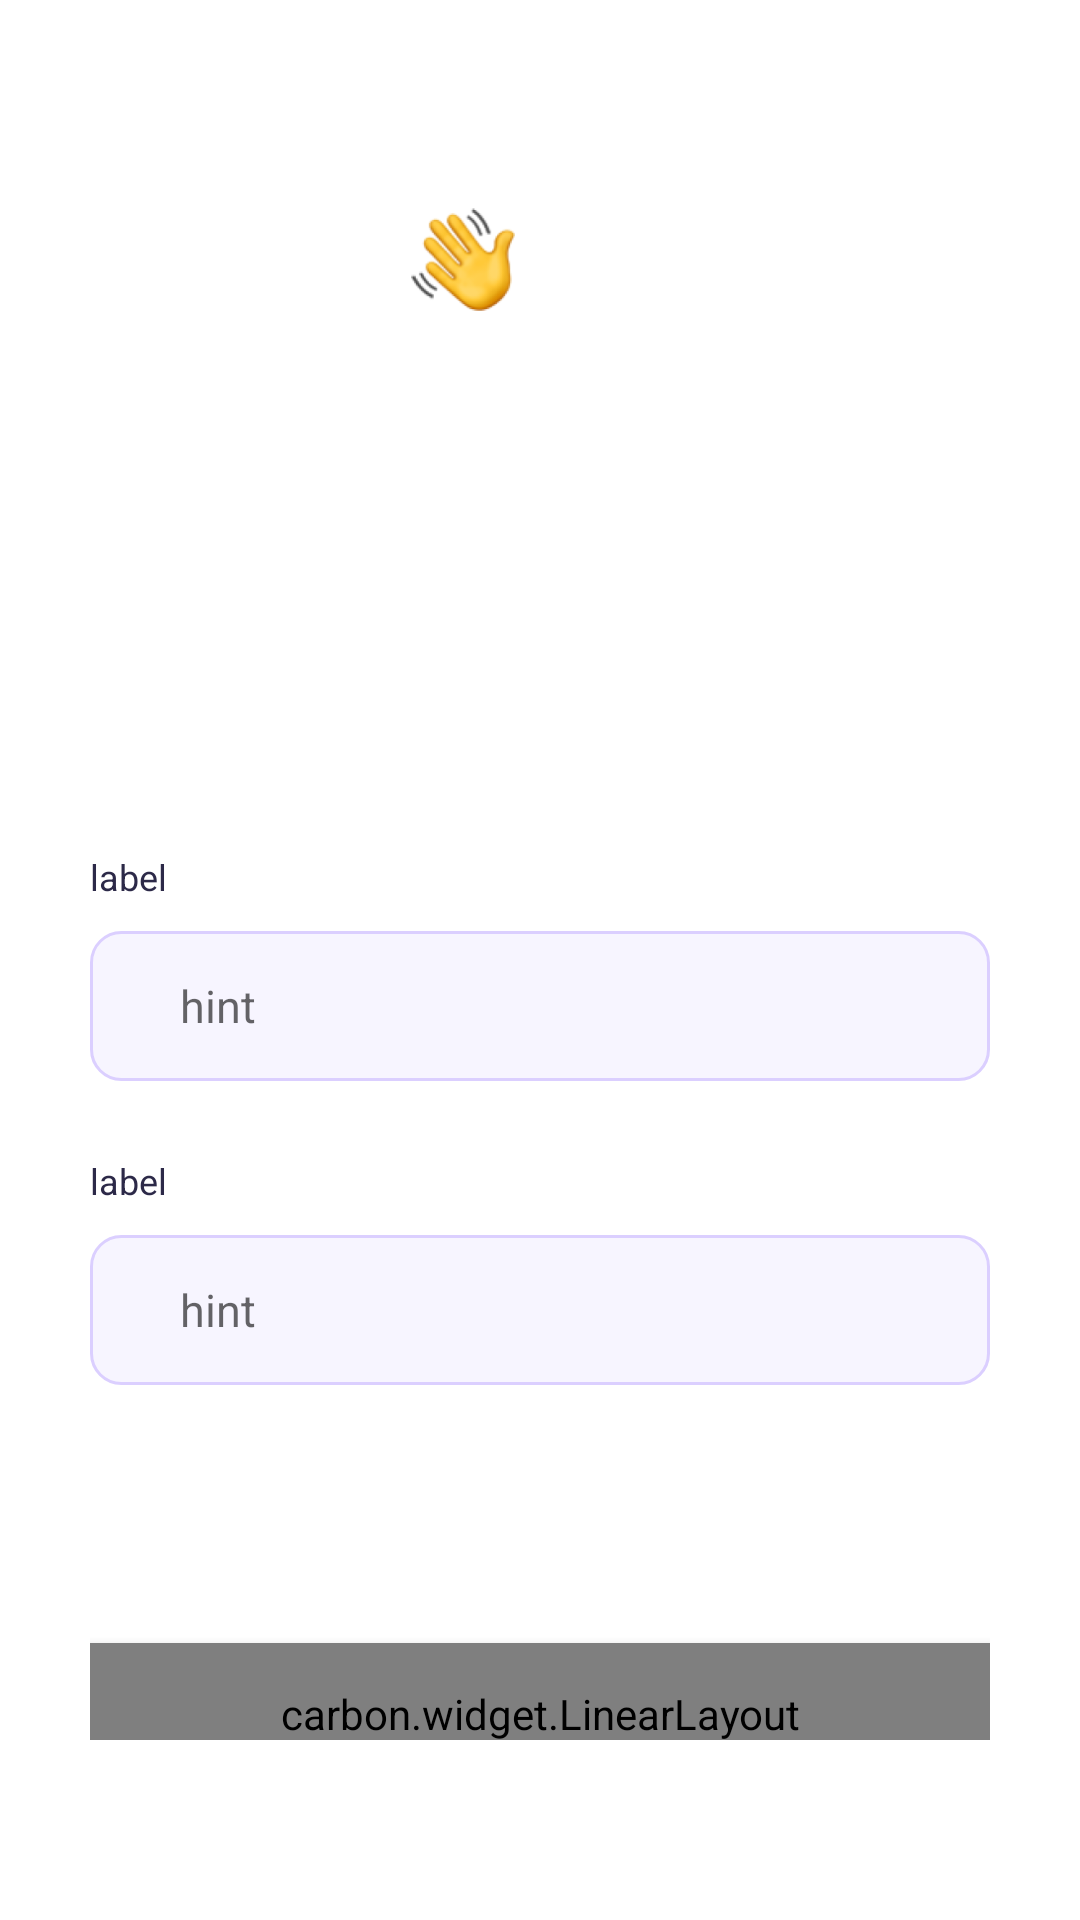

Where icons sit on this 1080×1920 app screen, as rect(x1, y1, x2, y2):
hand: rect(411, 208, 515, 311)
